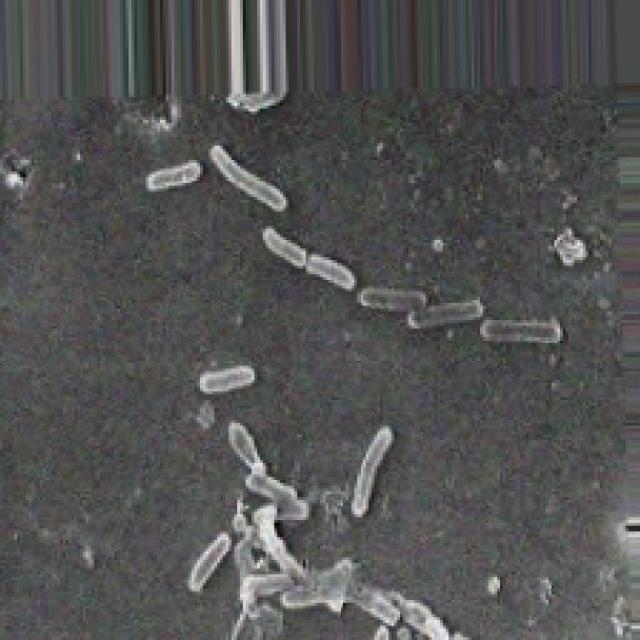Rod_bacteria: (15, 80, 625, 640)
